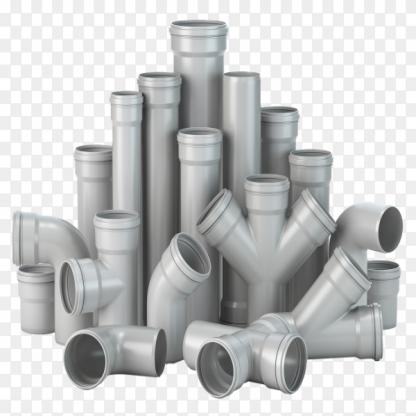PVC: (11, 18, 404, 396)
